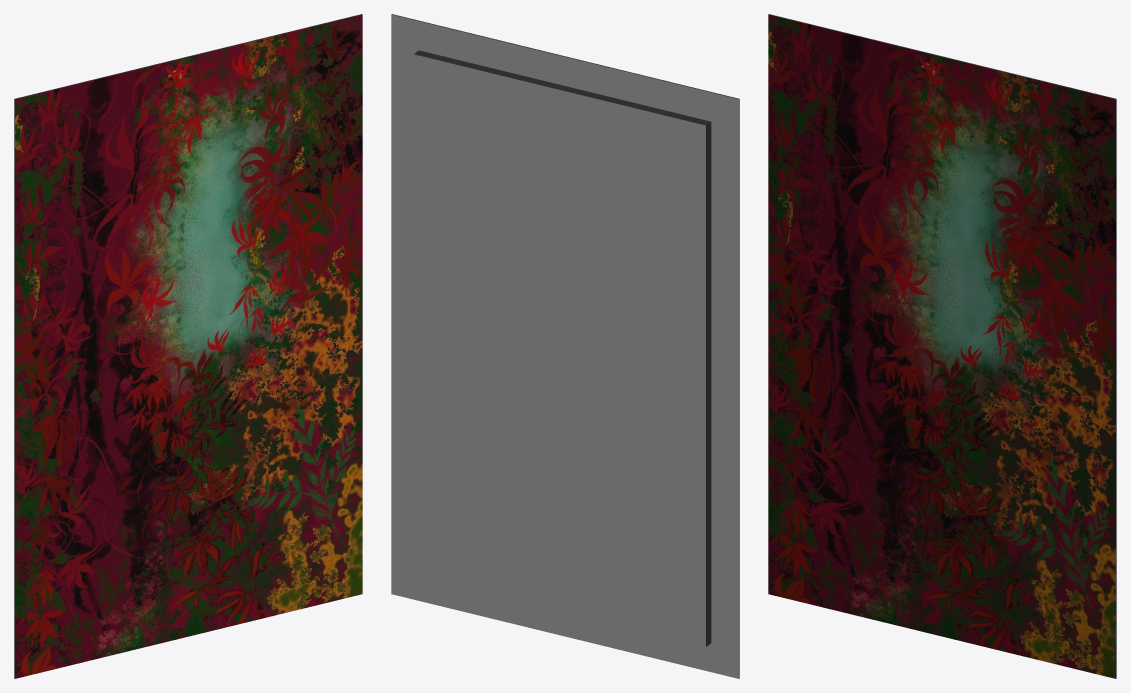
The model's file is os015_grand_dibond.glb.
3 renders of one model, left to right at view 1: azimuth 30°, elevation 25°; view 2: azimuth 150°, elevation 25°; view 3: azimuth 330°, elevation 25°, orthographic.
Visible parts, largest first — view 1: os015_grand_dibond; view 2: os015_grand_dibond; view 3: os015_grand_dibond.
Boxes of the visible parts, x1,y1,x2,y2 form: os015_grand_dibond: (14,14,362,678); os015_grand_dibond: (391,14,739,678); os015_grand_dibond: (768,14,1116,678).
Bounding box in the file's own units: 0.7537 × 1.2 × 0.023.
4 materials, 1 textured.
